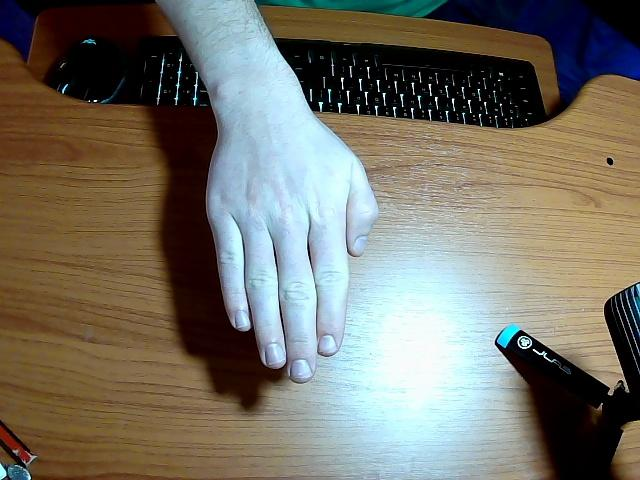paper: (161, 0, 378, 382)
